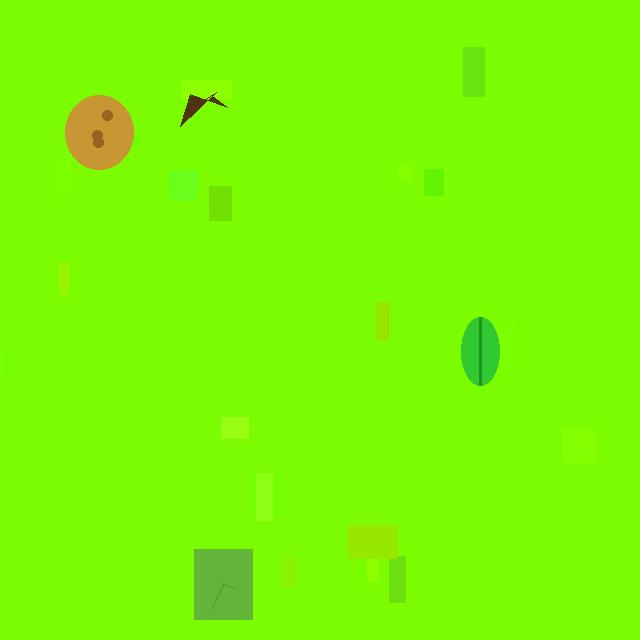damaged_crop: (65, 95, 133, 169)
disease: (164, 86, 234, 128)
healthy_crop: (461, 317, 499, 386)
weed: (194, 549, 253, 619)
